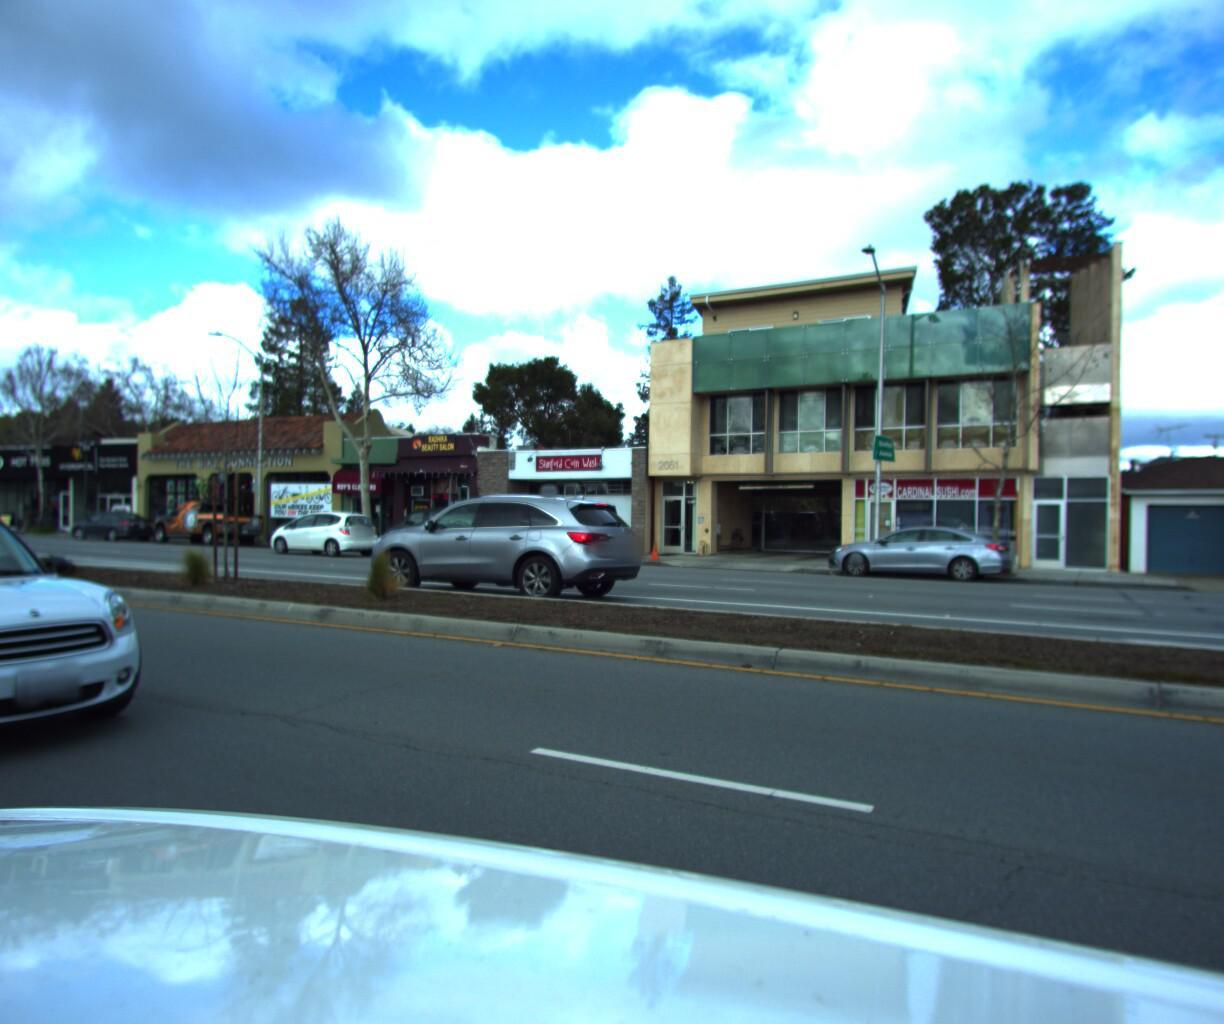car: (363, 491, 661, 605), (812, 518, 1016, 582), (141, 472, 268, 544), (373, 501, 511, 554), (256, 503, 381, 555), (60, 505, 161, 540)
